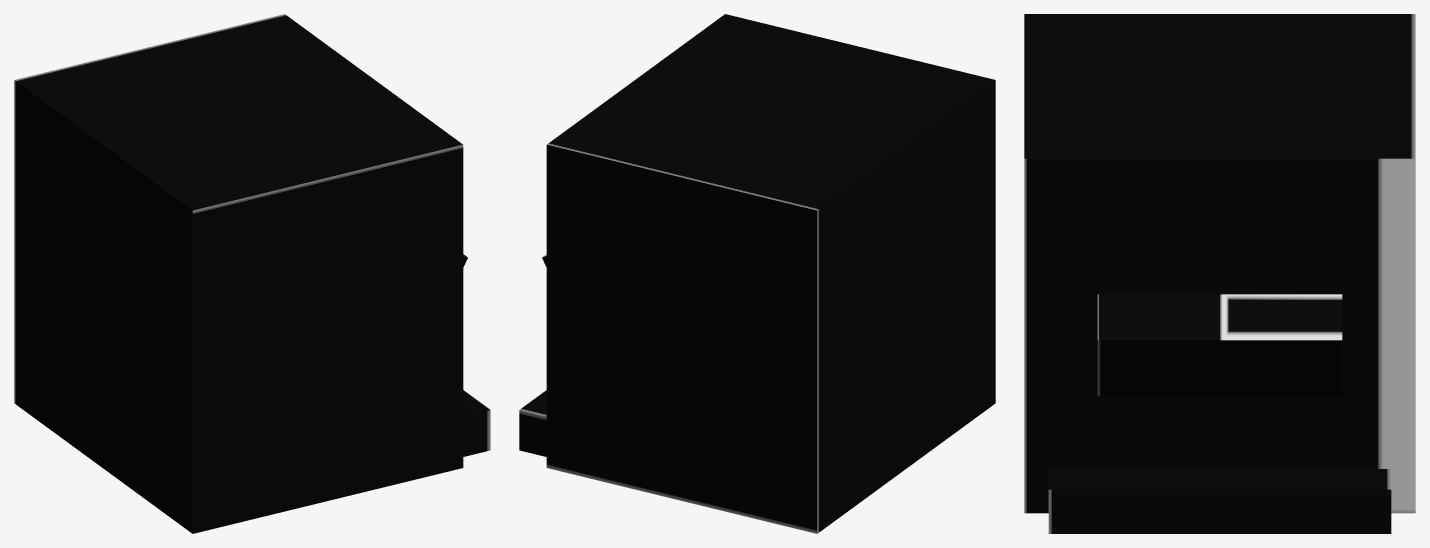
The picture shows the model from 3 angles, left to right: view 1: azimuth 30°, elevation 25°; view 2: azimuth 150°, elevation 25°; view 3: azimuth 270°, elevation 25°; orthographic projection. The views are drawn at different scales.
Parts seen in each view (by area): view 1: pc_base; view 2: pc_base; view 3: pc_base.
Part boxes in pixels (<box>): pc_base: <box>14,14,490,533</box>; pc_base: <box>519,14,995,533</box>; pc_base: <box>1024,14,1415,533</box>.
Size of the model in its own units: 1 by 1 by 1.
